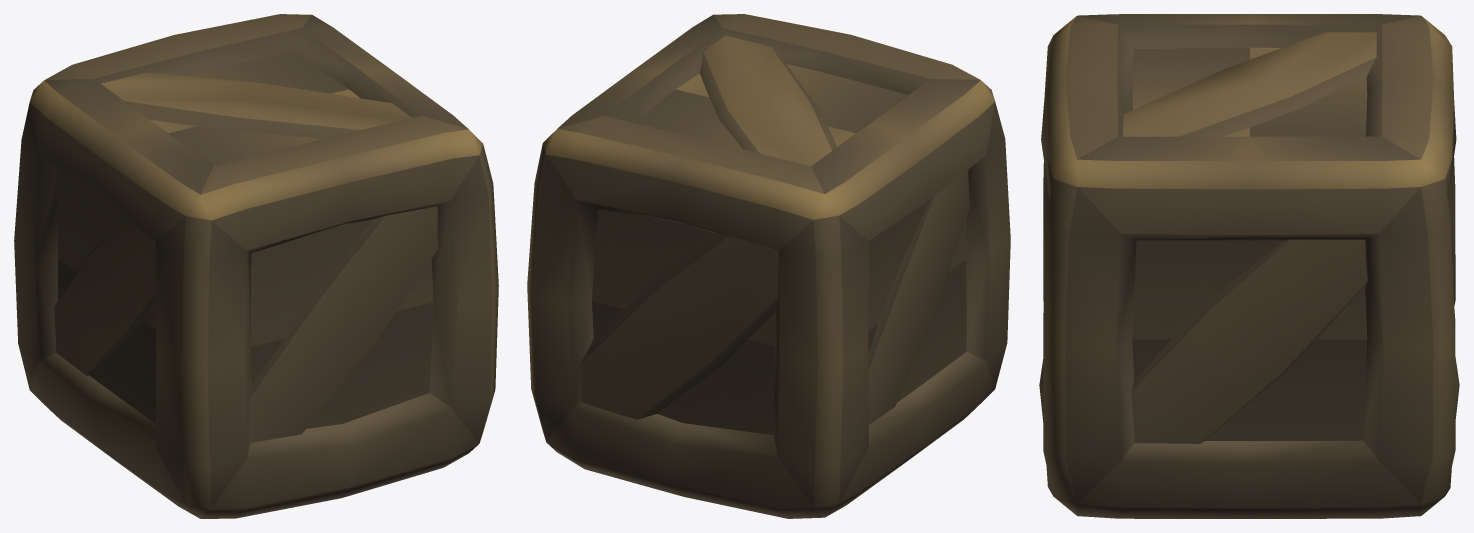
File: orc_box_small_2.fbx
The picture shows the model from 3 angles, left to right: view 1: azimuth 30°, elevation 25°; view 2: azimuth 150°, elevation 25°; view 3: azimuth 270°, elevation 25°; orthographic projection. The views are drawn at different scales.
Parts seen in each view (by area): view 1: orc_box_small_2; view 2: orc_box_small_2; view 3: orc_box_small_2.
Part boxes in pixels (x1,y1,x2,y2): orc_box_small_2: [14, 14, 498, 518]; orc_box_small_2: [527, 14, 1010, 518]; orc_box_small_2: [1039, 14, 1459, 518].
Size of the model in its own units: 83.73 by 84.04 by 85.47.
